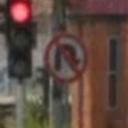NoVirarU: (42, 30, 90, 84)
